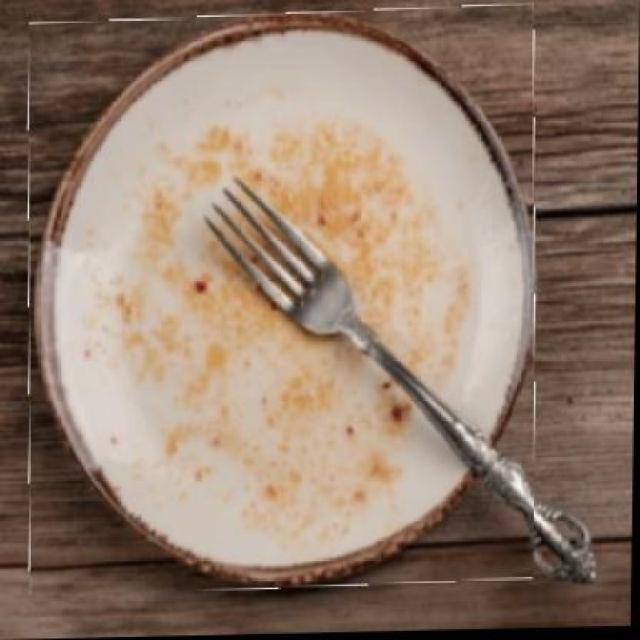Plate: (24, 8, 540, 594)
